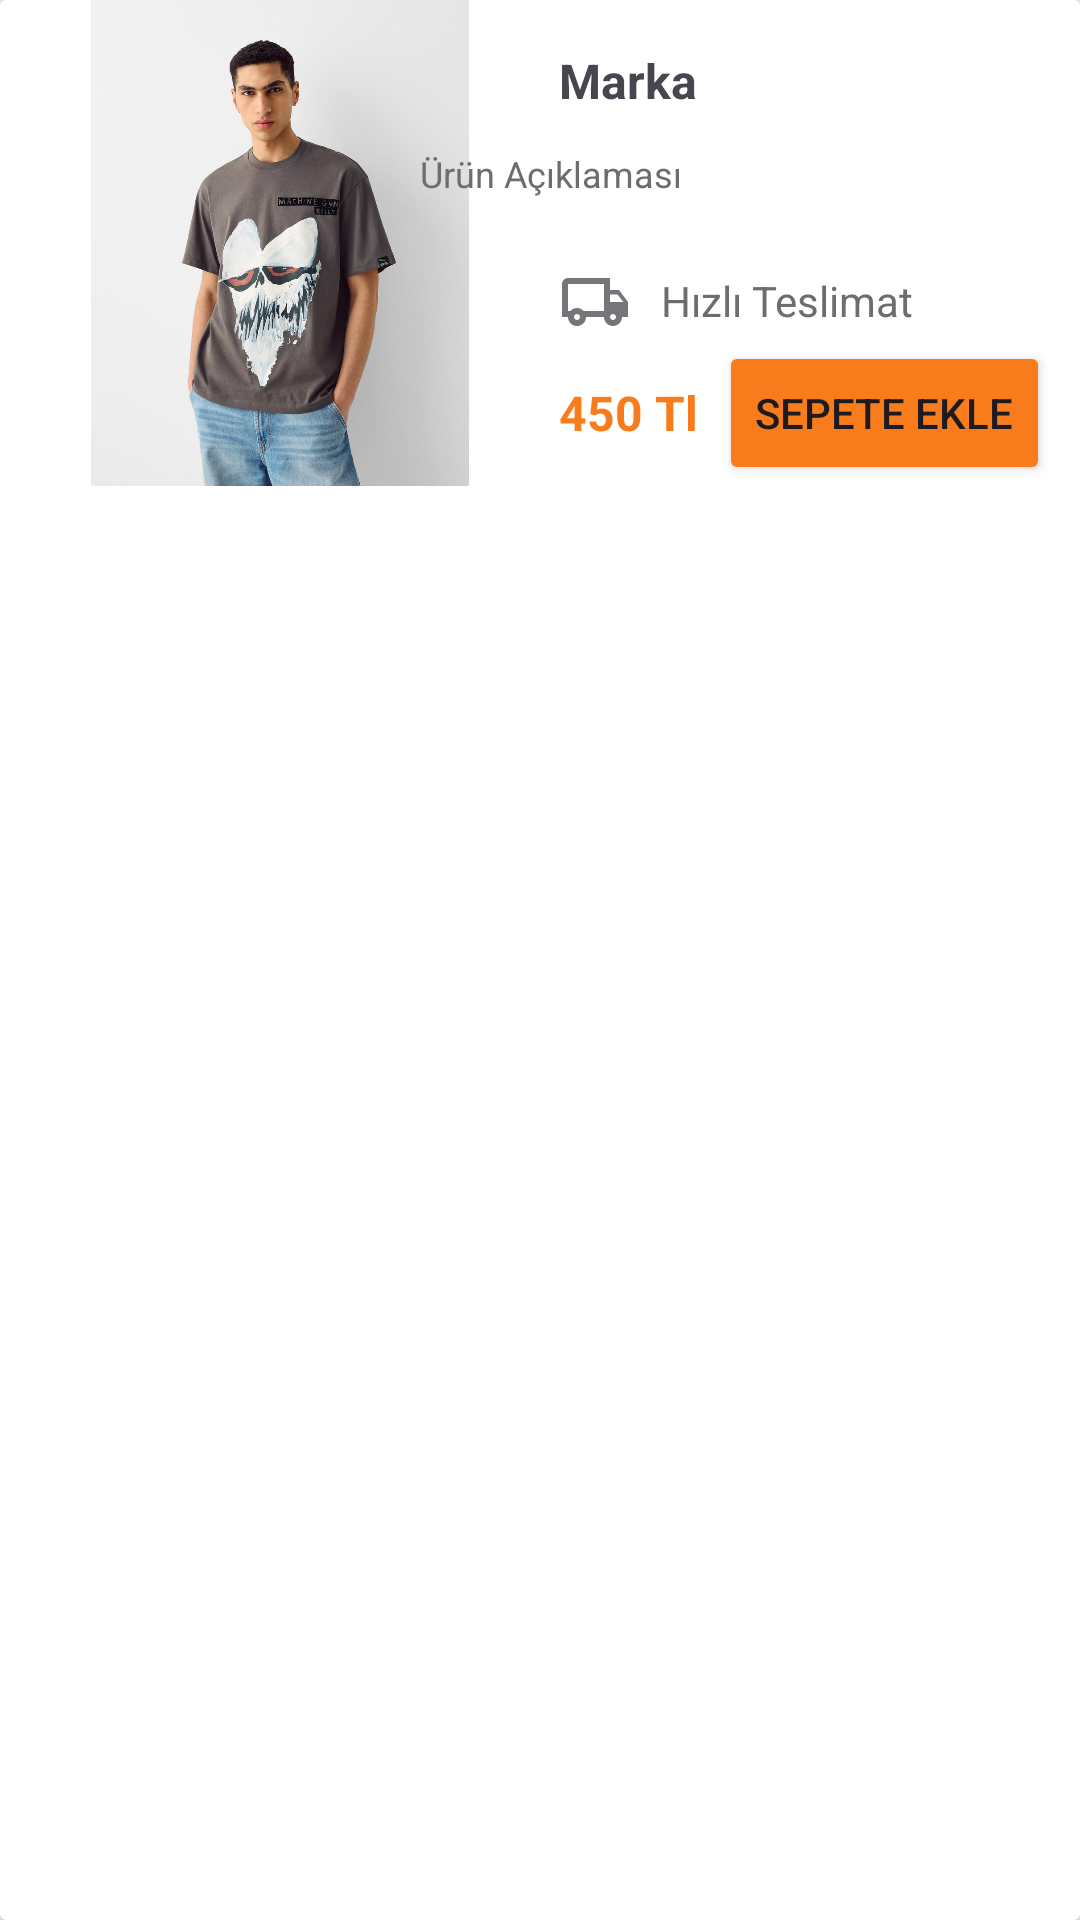

Point at icon controls on the screen. Image size 1080px x 1920px, points as [x,y].
local shipping: [595,302]
